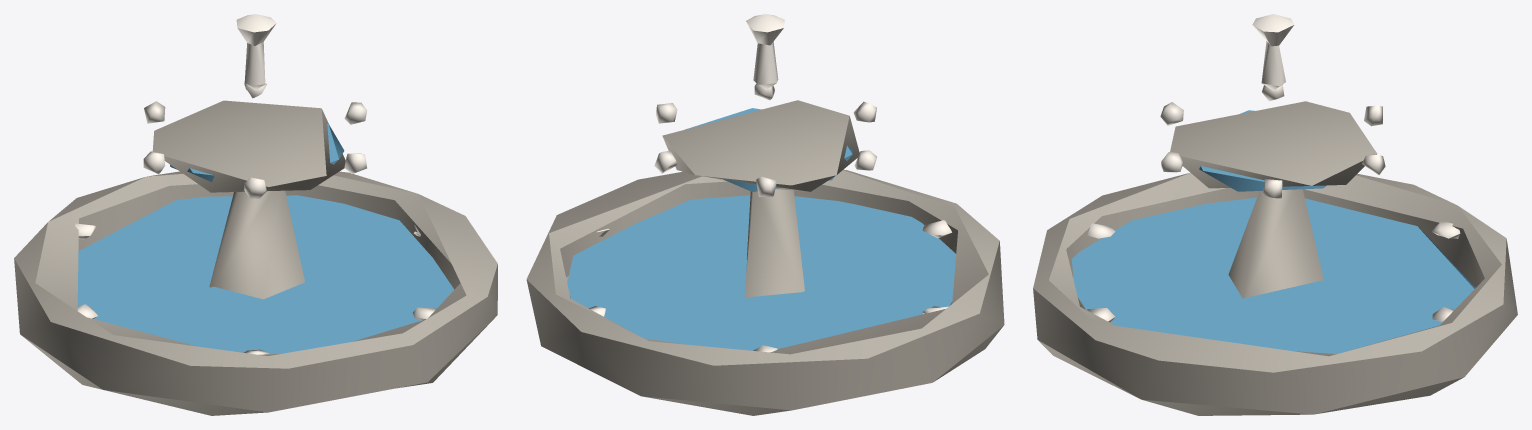
File: fountain.glb
3 renders of one model, left to right at view 1: azimuth 30°, elevation 25°; view 2: azimuth 150°, elevation 25°; view 3: azimuth 270°, elevation 25°, orthographic.
Parts seen in each view (by area): view 1: fountain.007, water.021; view 2: fountain.007, water.021; view 3: fountain.007, water.021.
Part boxes in pixels (x1,y1,x2,y2): fountain.007: (14,100,497,415); water.021: (75,14,436,354); fountain.007: (526,100,1004,415); water.021: (589,14,951,352); fountain.007: (1033,101,1517,415); water.021: (1087,14,1460,322).
Size of the model in its own units: 4.6 by 3.2 by 4.56.
1 material, 1 textured.
